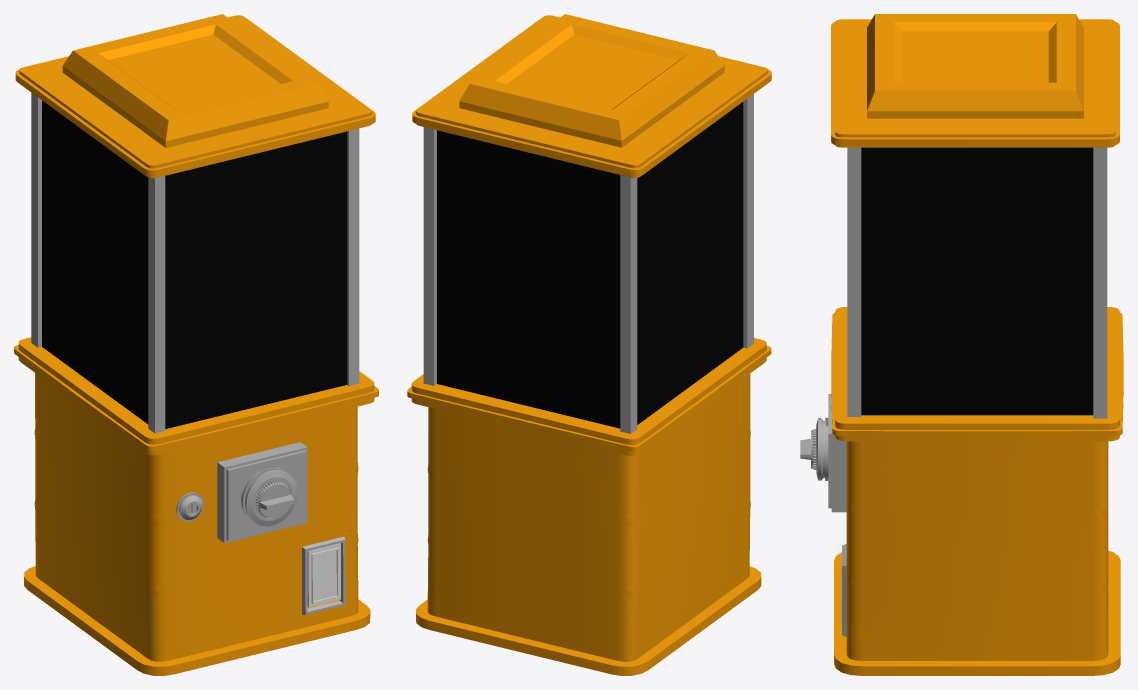
The model's file is FigureMuchine.fbx.
3 renders of one model, left to right at view 1: azimuth 30°, elevation 25°; view 2: azimuth 150°, elevation 25°; view 3: azimuth 270°, elevation 25°, orthographic. The views are drawn at different scales.
Visible parts, largest first — view 1: main box(yellow), glass4, Box001, glass3, metal box, stick3, stick4, stick2, handle, red cover, metal frame, key hole; view 2: main box(yellow), glass1, Box001, glass3, stick2, stick, stick3; view 3: main box(yellow), glass2, Box001, stick, stick4, metal box, handle.
Boxes of the visible parts, bbox=[...] form: main box(yellow): bbox=[14, 337, 378, 675]; glass4: bbox=[165, 131, 347, 428]; Box001: bbox=[15, 14, 375, 178]; glass3: bbox=[42, 100, 148, 424]; metal box: bbox=[217, 442, 307, 543]; stick3: bbox=[148, 176, 165, 433]; stick4: bbox=[347, 128, 359, 385]; stick2: bbox=[31, 92, 41, 347]; handle: bbox=[241, 467, 297, 526]; red cover: bbox=[307, 543, 340, 607]; metal frame: bbox=[302, 536, 345, 614]; key hole: bbox=[176, 492, 203, 521]; main box(yellow): bbox=[407, 338, 771, 675]; glass1: bbox=[437, 130, 620, 428]; Box001: bbox=[412, 14, 771, 177]; glass3: bbox=[637, 102, 743, 424]; stick2: bbox=[620, 175, 637, 433]; stick: bbox=[423, 127, 436, 385]; stick3: bbox=[743, 94, 753, 348]; main box(yellow): bbox=[831, 307, 1123, 675]; glass2: bbox=[861, 147, 1093, 415]; Box001: bbox=[831, 14, 1119, 147]; stick: bbox=[1093, 147, 1107, 418]; stick4: bbox=[847, 147, 861, 416]; metal box: bbox=[828, 394, 846, 512]; handle: bbox=[800, 418, 828, 480].
Bounding box in the file's own units: 35.54 × 77.82 × 40.43.
